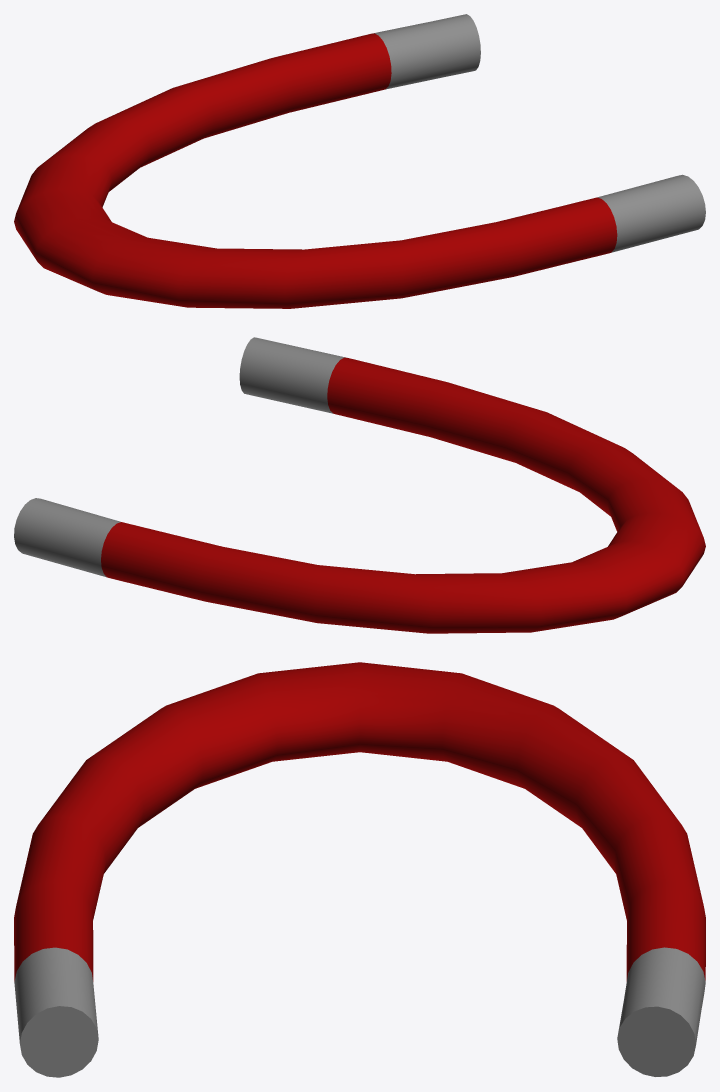
Rendered from horseshoe.fbx.
3 views of the same model, one above another, from view 1: azimuth 30°, elevation 25°; view 2: azimuth 150°, elevation 25°; view 3: azimuth 270°, elevation 25° (orthographic). The views are drawn at different scales.
Visible parts, largest first — view 1: pTorus1; view 2: pTorus1; view 3: pTorus1.
Boxes of the visible parts, left/top/right/bottom form: pTorus1: left=14, top=14, right=705, bottom=308; pTorus1: left=14, top=337, right=705, bottom=633; pTorus1: left=14, top=662, right=705, bottom=1077.
Bounding box in the file's own units: 8.21 × 0.7537 × 6.59.
